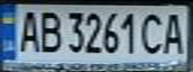1: (118, 9, 142, 55)
2: (81, 8, 106, 55)
3: (63, 8, 84, 54)
6: (103, 9, 124, 55)
A: (12, 7, 42, 54), (160, 9, 190, 55)
B: (36, 7, 63, 54)
C: (139, 10, 169, 56)
